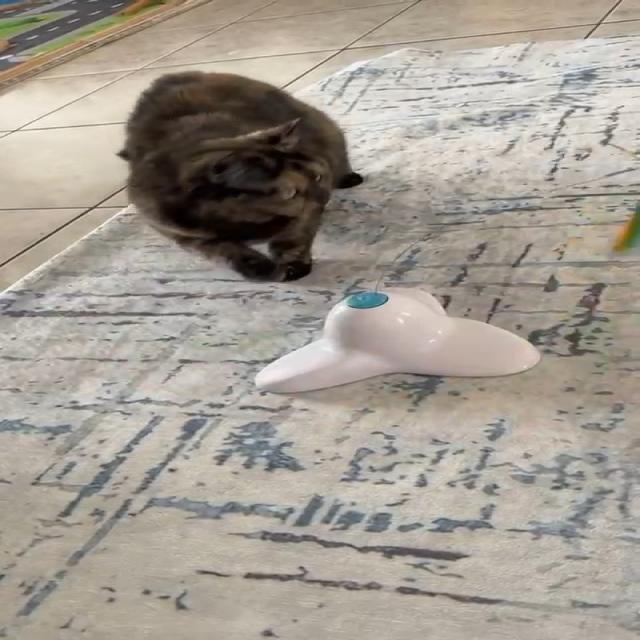authorized: (115, 70, 364, 282)
